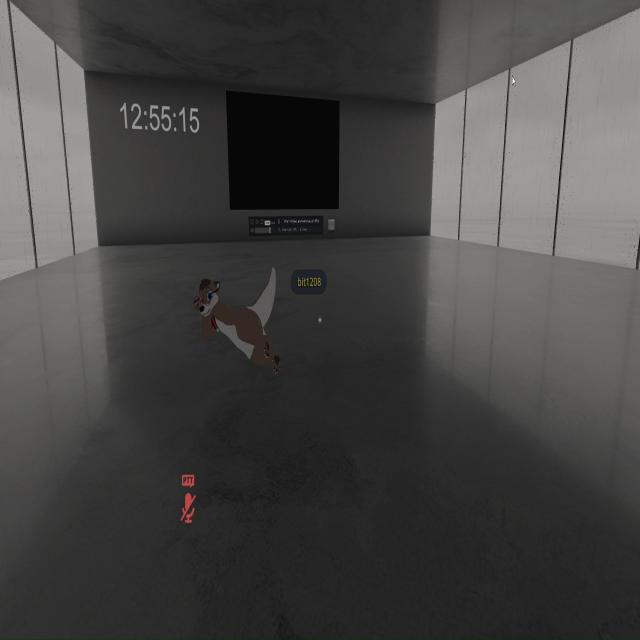human: (184, 255, 284, 394)
